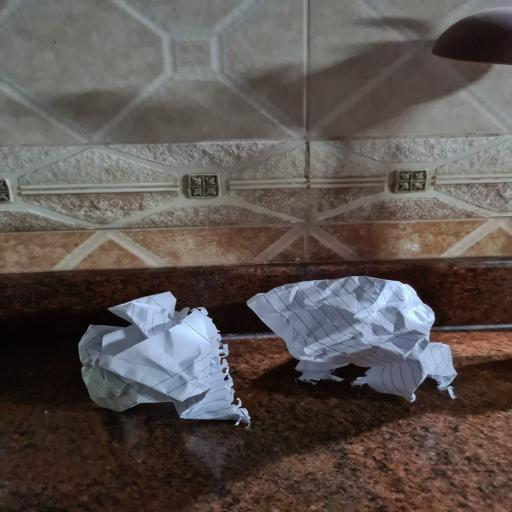Kertas: (286, 276, 424, 377), (91, 324, 222, 408)
